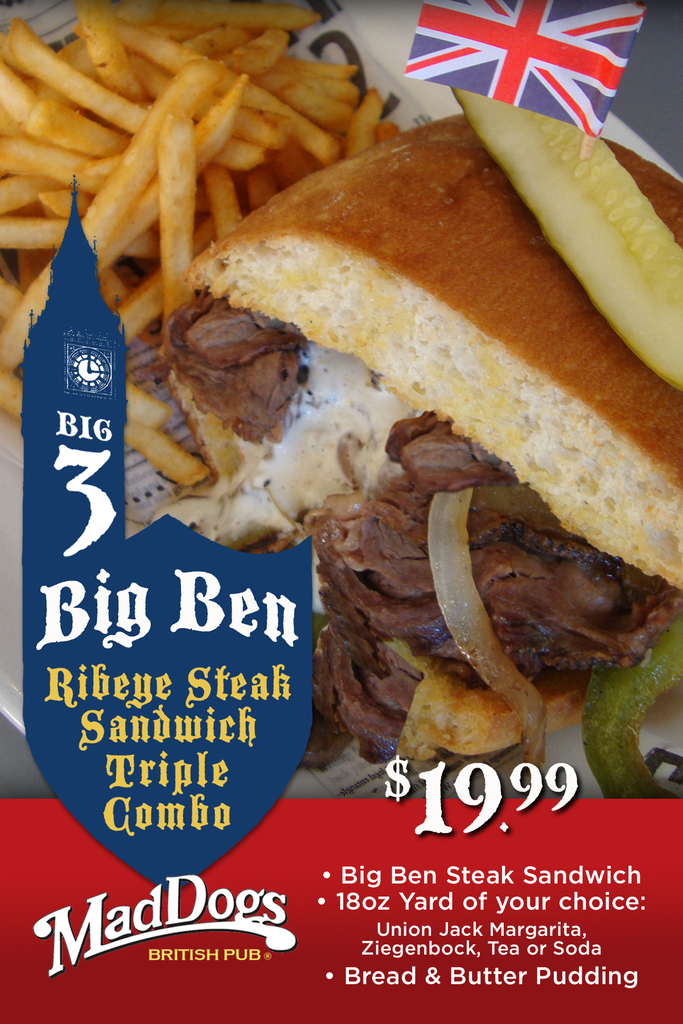French fries: (0, 0, 413, 387)
